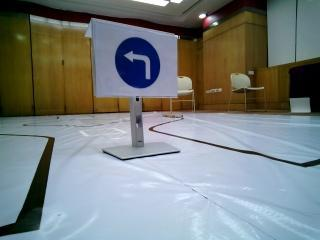left: (97, 29, 176, 92)
